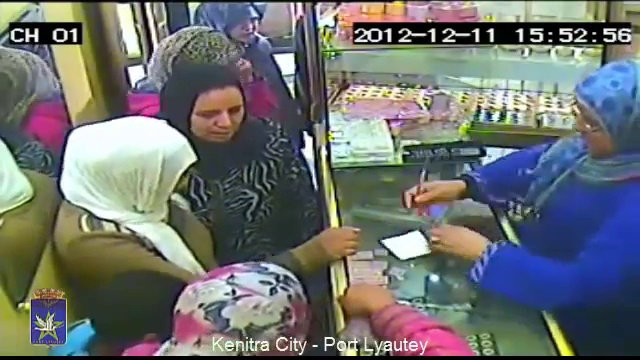face: (580, 94, 623, 157), (192, 91, 247, 140), (227, 16, 261, 39)
